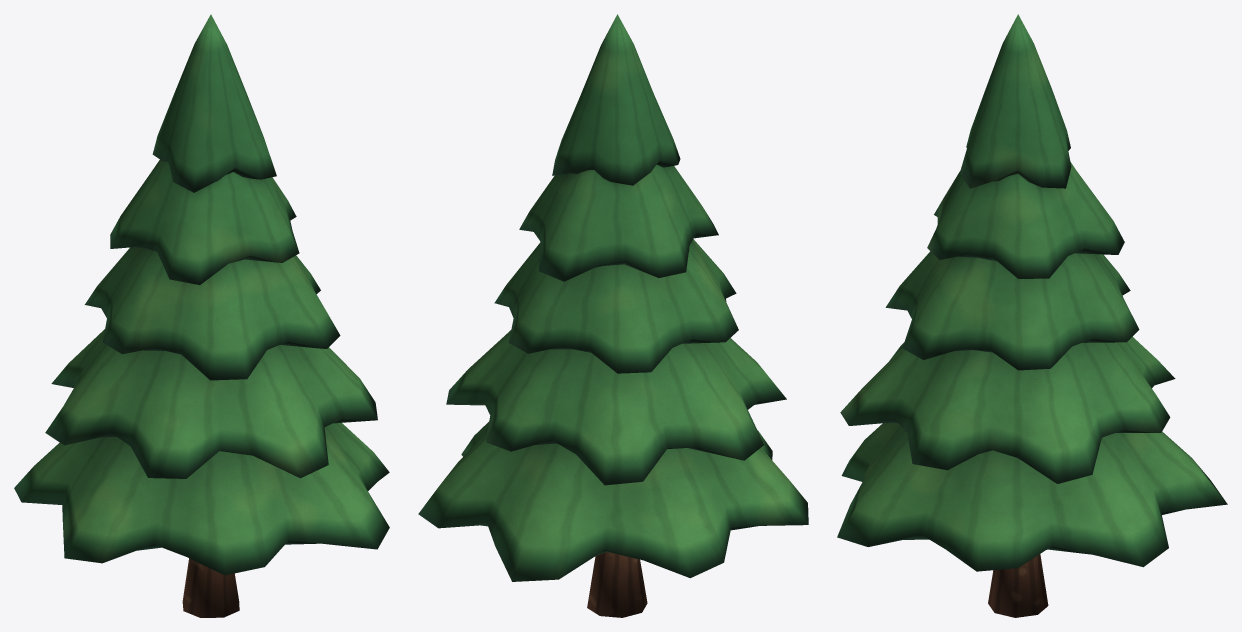
File: Pino_A.fbx
3 views of the same model, side by side, from view 1: azimuth 30°, elevation 25°; view 2: azimuth 150°, elevation 25°; view 3: azimuth 270°, elevation 25° (orthographic).
Parts seen in each view (by area): view 1: Malla; view 2: Malla; view 3: Malla.
Part boxes in pixels (x1=…): Malla: x1=14, y1=14, x2=389, y2=617; Malla: x1=418, y1=14, x2=808, y2=617; Malla: x1=837, y1=14, x2=1227, y2=617.
Bounding box in the file's own units: 6.38 × 11.05 × 6.62.
1 material, 1 textured.
